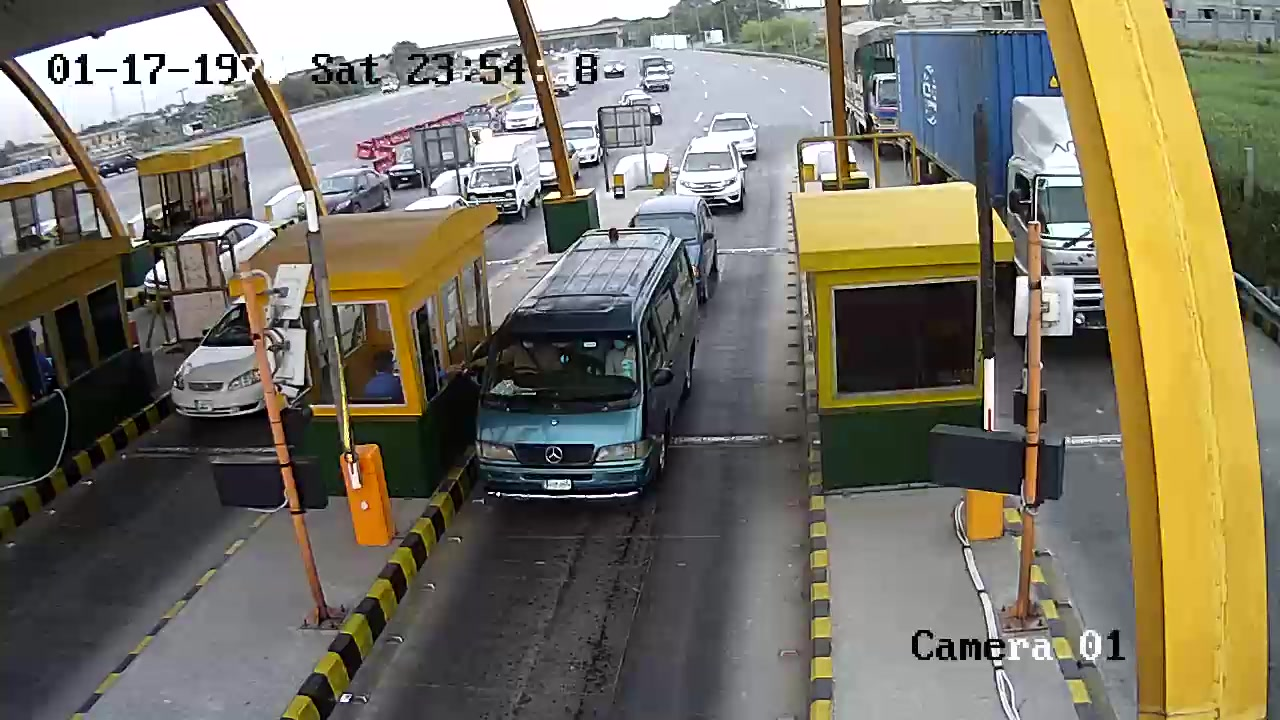F2: (477, 226, 692, 507)
